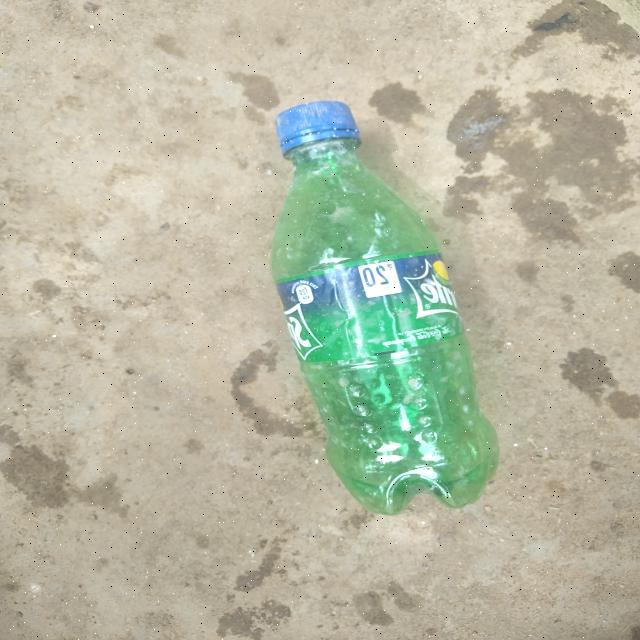bottle: (262, 94, 493, 518)
cap: (272, 88, 364, 174)
label: (274, 258, 462, 368)
